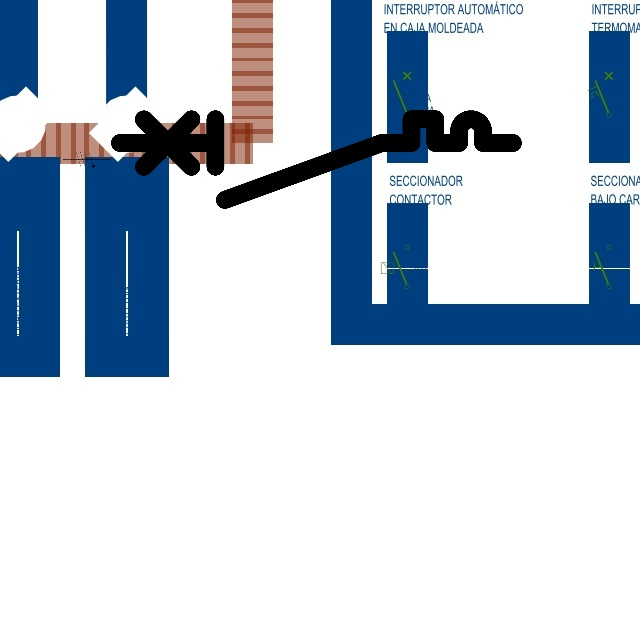interruptor_termomagnetico: (109, 109, 522, 210)
